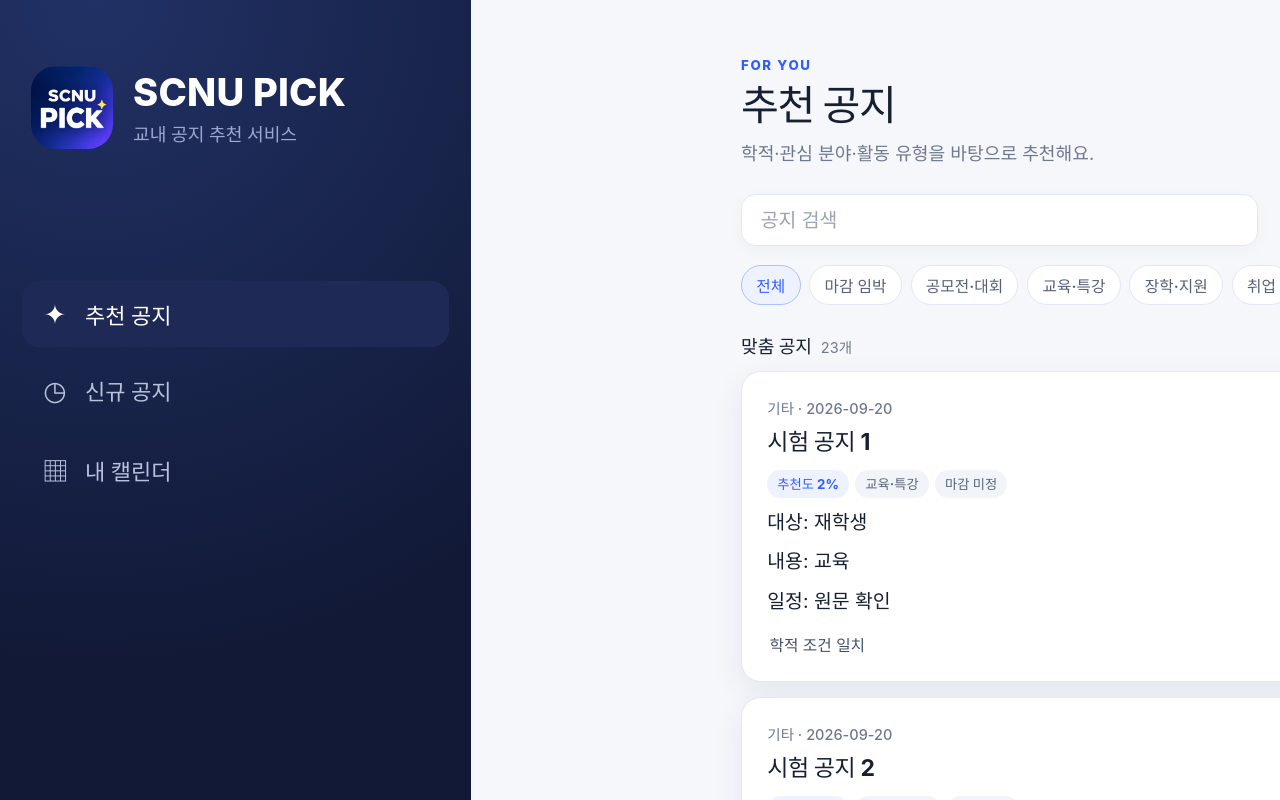
Test: API-connected app › does not replace newer filter results with an older response
This screenshot has width=1280, height=800.
Expected: the heading "추천 공지" is shown, [741,80,896,130]
Expected: the heading "시험 공지 1" is shown, [767,428,870,456]
Click the button "교육·특강": (1074, 285) [1027,265,1121,306]
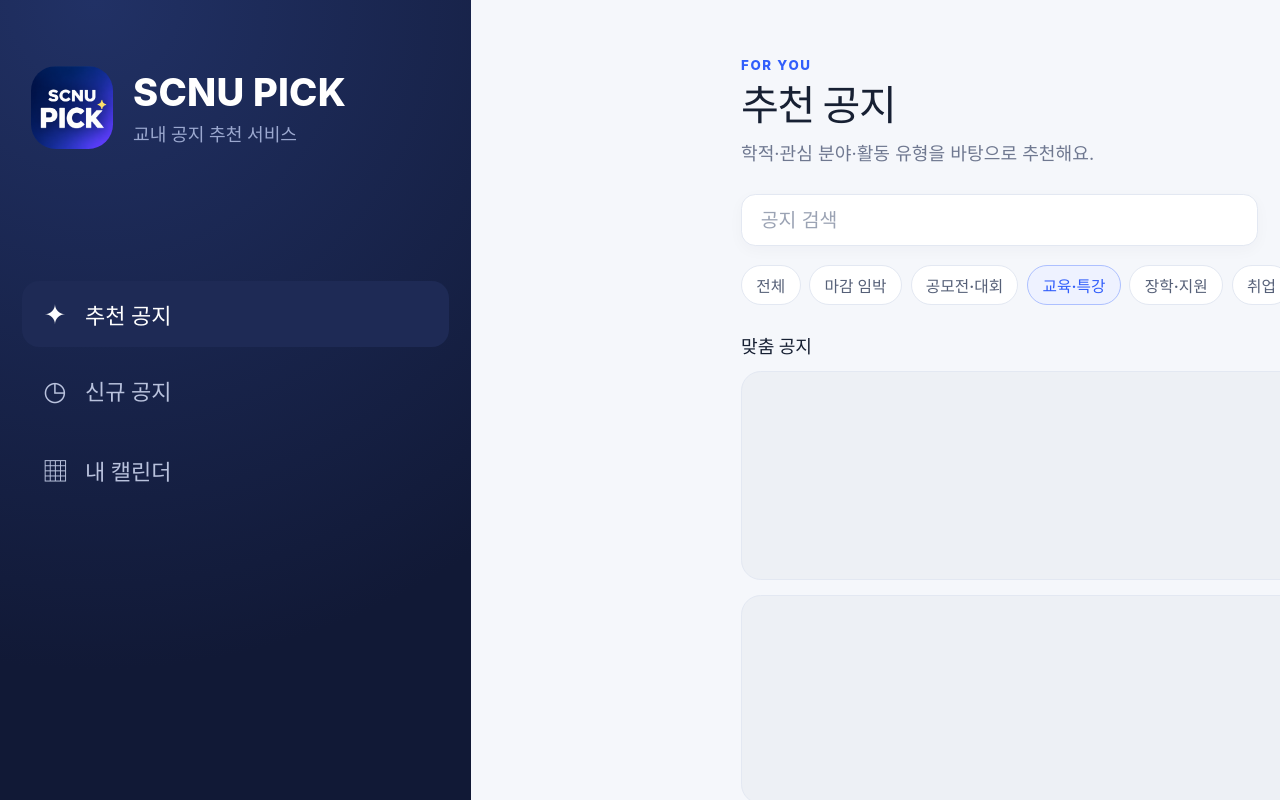
Click the button "공모전·대회": (964, 285) [910,265,1018,306]
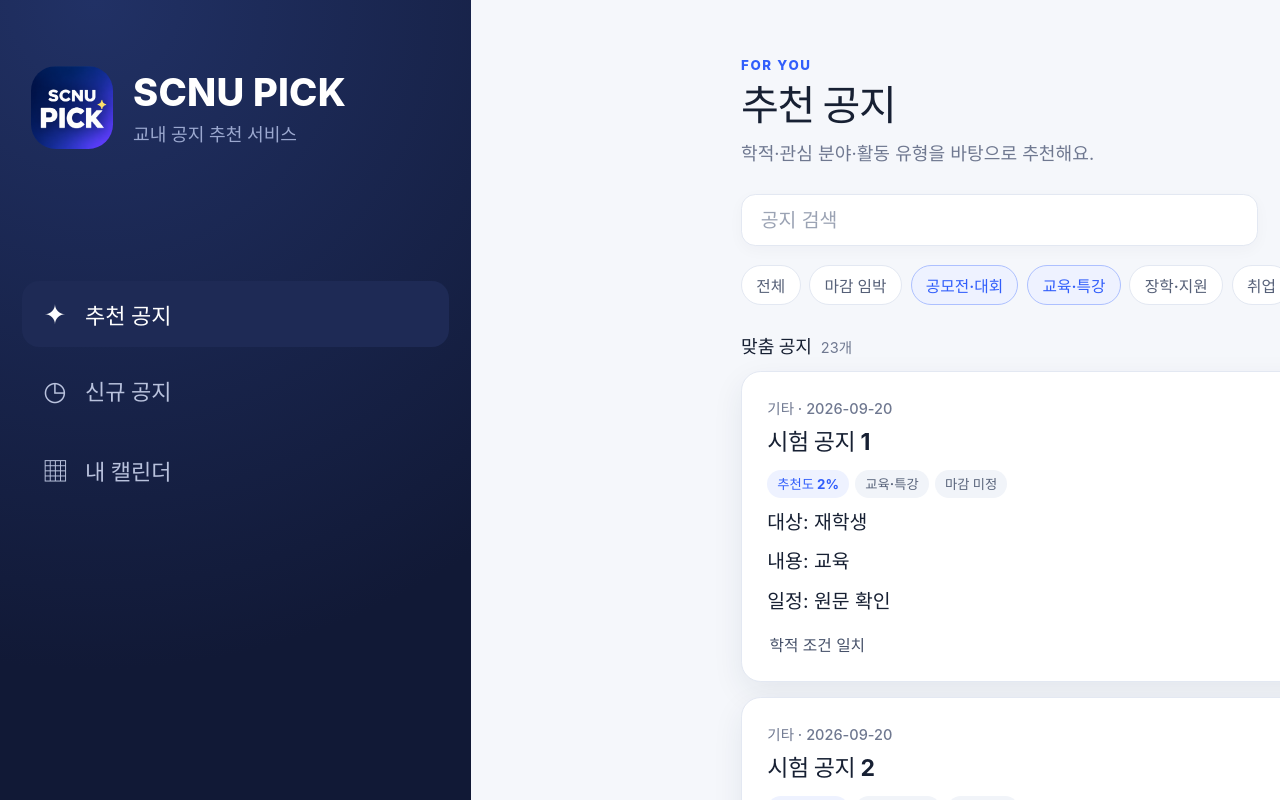
Expected: the heading "시험 공지 2" is shown, [767,754,875,782]
Expected: the text "23개" is shown, [821,336,852,357]
